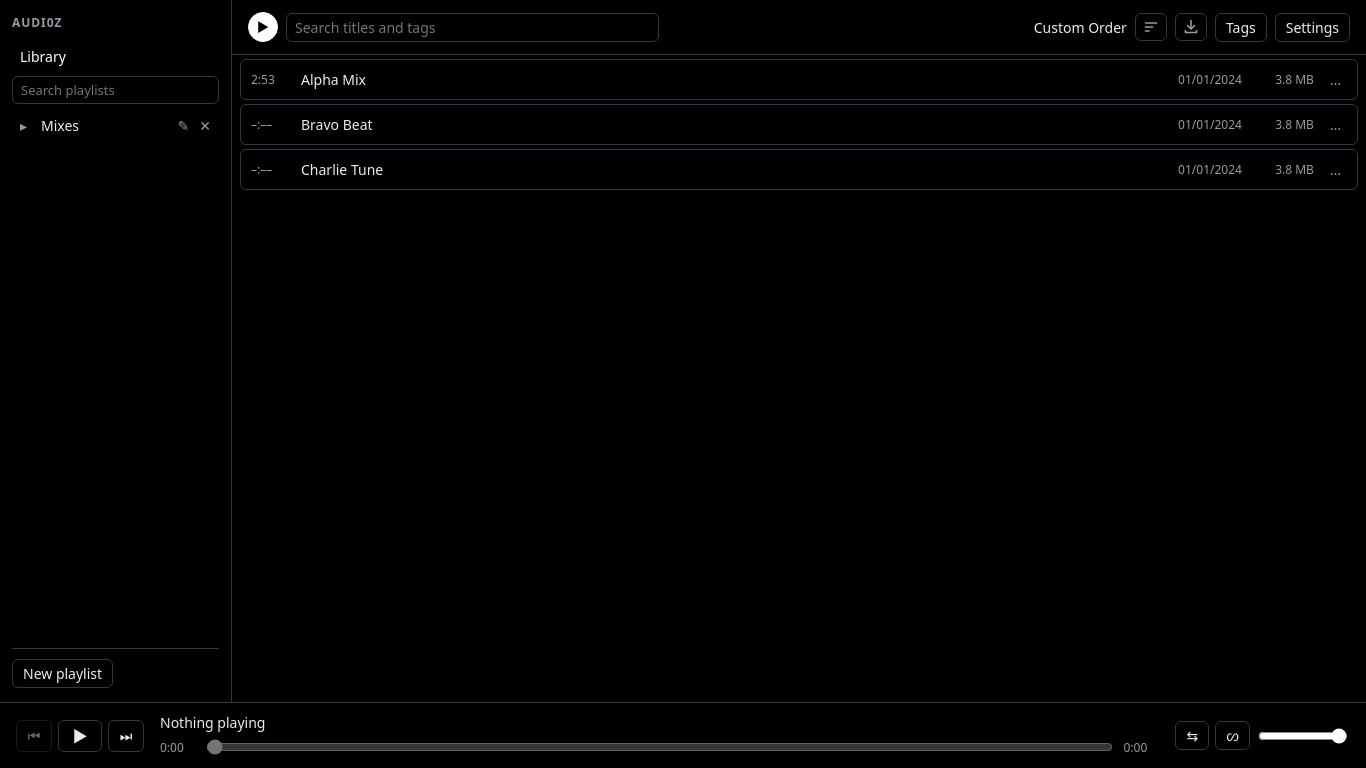
Test case: AddToPlaylistDialog › offers the library the playlist lacks, whichever playlist is being viewed
This screenshot has width=1366, height=768.
Click the button "Mixes": (102, 126) [33,112,172,139]
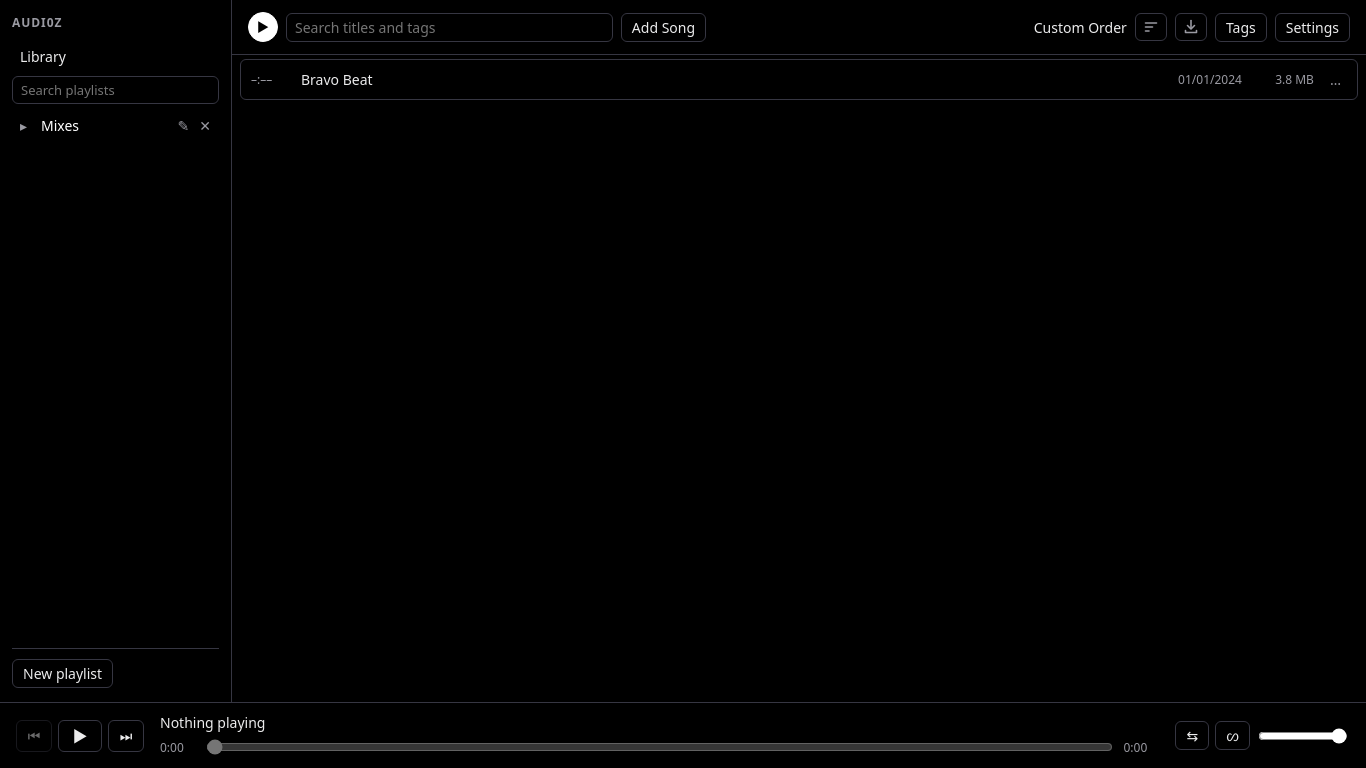
Click the button with aria-label "Add songs to Mixes": (663, 27) [621,12,706,42]
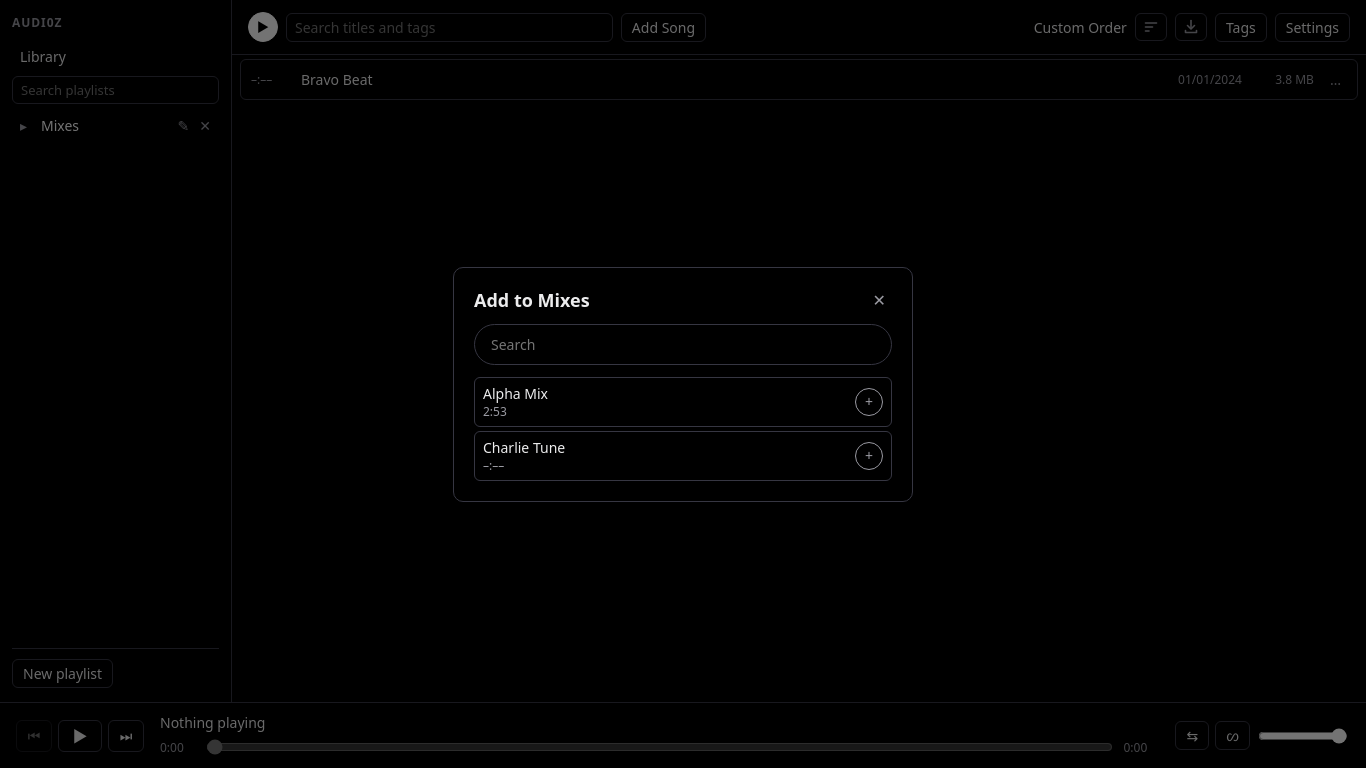
Now the text "2:53" is shown, box [483,402,507,420]
